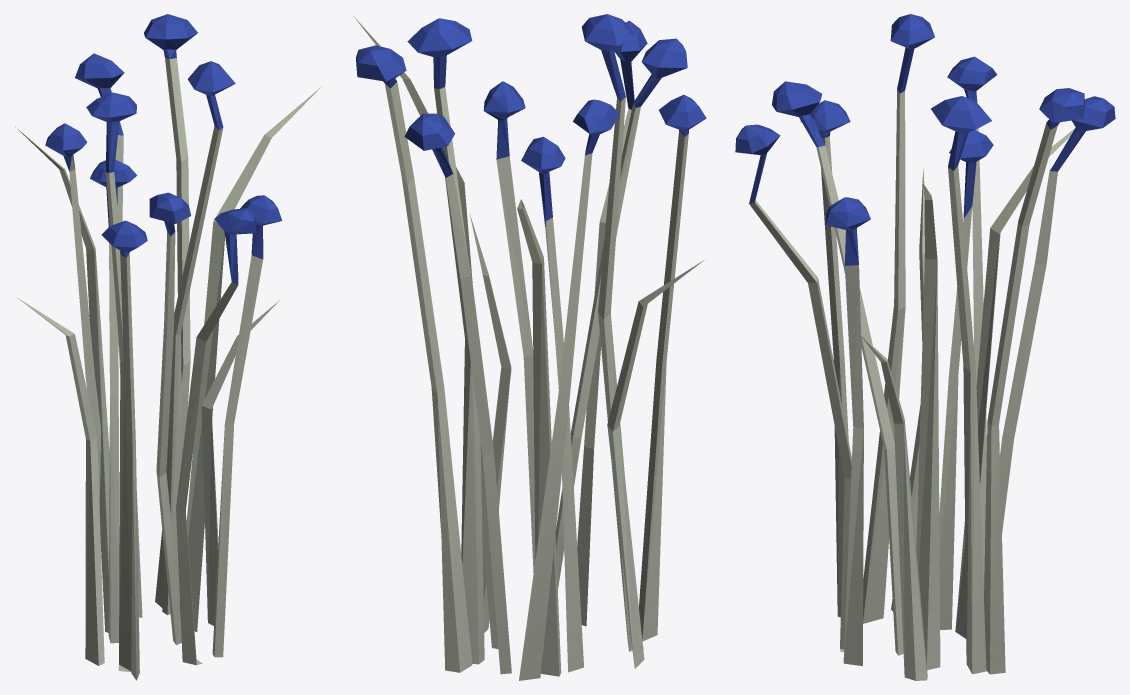
Rendered from flower_blue.glb.
3 renders of one model, left to right at view 1: azimuth 30°, elevation 25°; view 2: azimuth 150°, elevation 25°; view 3: azimuth 270°, elevation 25°, orthographic. The views are drawn at different scales.
Parts seen in each view (by area): view 1: flower_blue; view 2: flower_blue; view 3: flower_blue.
Boxes of the visible parts, x1,y1,x2,y2 form: flower_blue: (15, 14, 321, 680); flower_blue: (353, 14, 706, 680); flower_blue: (735, 14, 1115, 680).
Bounding box in the file's own units: 0.2873 × 0.5 × 0.2836.
1 material, 1 textured.
